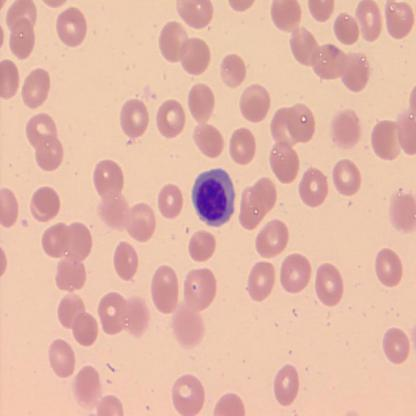NRC: (190, 165, 236, 230)
